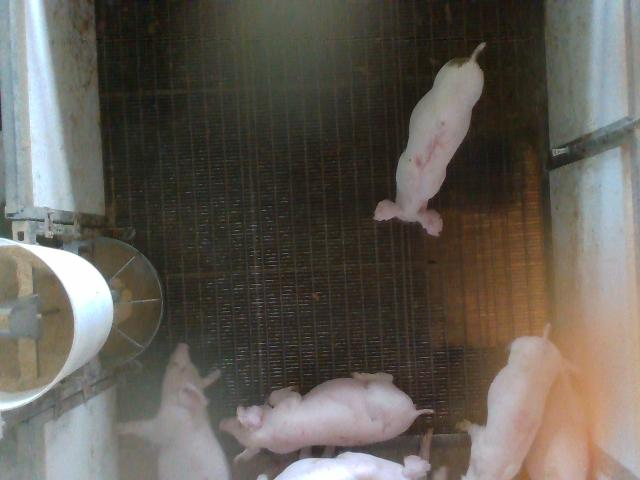pig-4: (464, 336, 564, 478)
pig-5: (374, 42, 485, 236)
